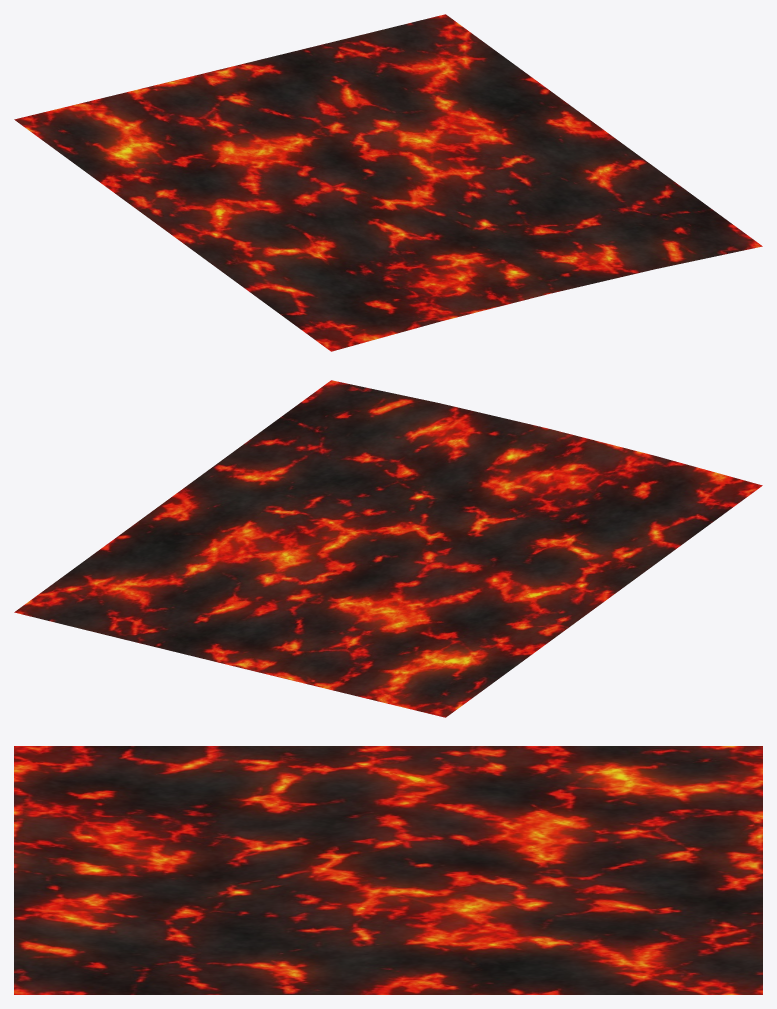
The model's file is fghj.FBX.
The picture shows the model from 3 angles, top to bottom: view 1: azimuth 30°, elevation 25°; view 2: azimuth 150°, elevation 25°; view 3: azimuth 270°, elevation 25°; orthographic projection. The views are drawn at different scales.
Visible parts, largest first — view 1: Plane001; view 2: Plane001; view 3: Plane001.
Part boxes in pixels (left/top/right/bottom): Plane001: left=14, top=14, right=762, bottom=351; Plane001: left=14, top=380, right=762, bottom=717; Plane001: left=14, top=746, right=762, bottom=994.
Bounding box in the file's own units: 86.07 × 1.6 × 110.
Materials: 1 (1 with a texture image).
